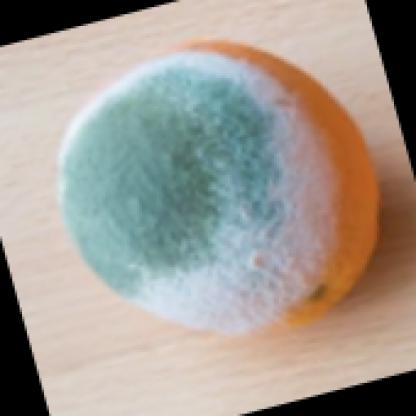rotten_orange: (50, 27, 380, 332)
